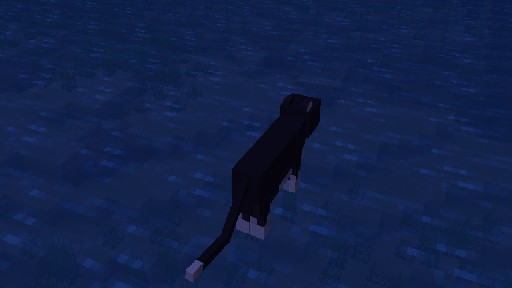cat: (184, 92, 321, 282)
